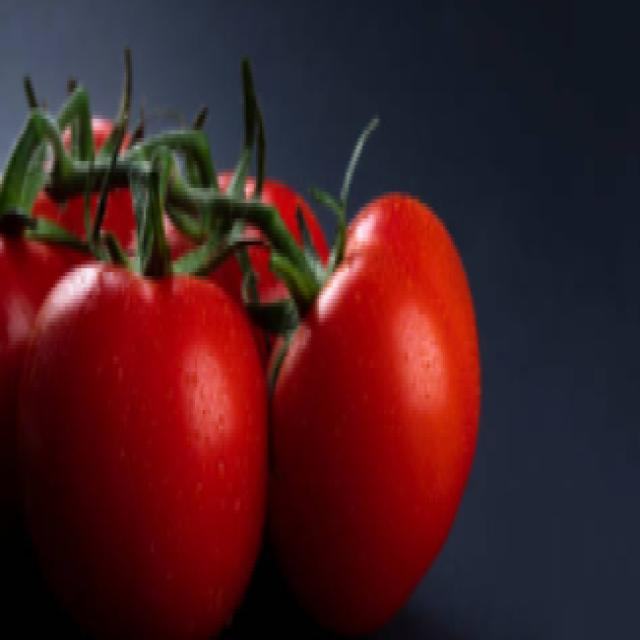Tomato: (277, 166, 476, 600), (36, 236, 259, 618)
